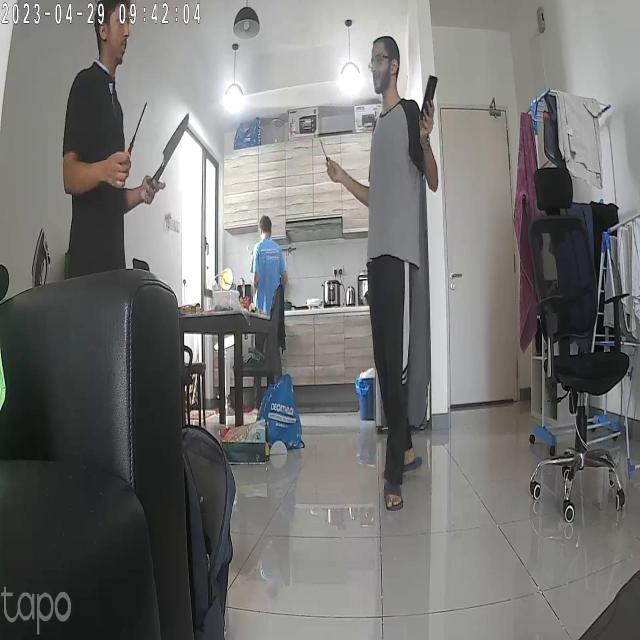Knife: (158, 108, 198, 178), (124, 88, 149, 174), (312, 124, 338, 183)
